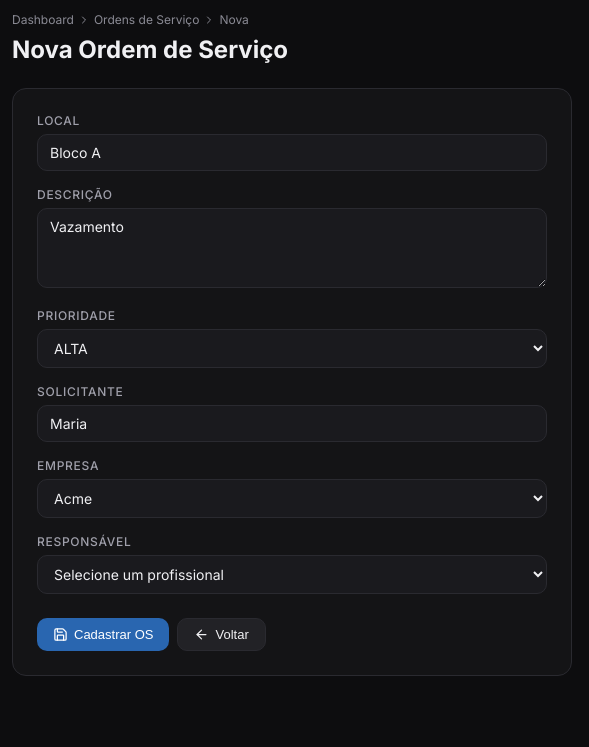
Test: NovaOrdemServico › exibe a mensagem de erro especifica no banner quando a criacao falha
Select "Carlos" in the dropdown below "Responsável". click: x=292, y=574
box: x1=37 y1=555 x2=547 y2=594
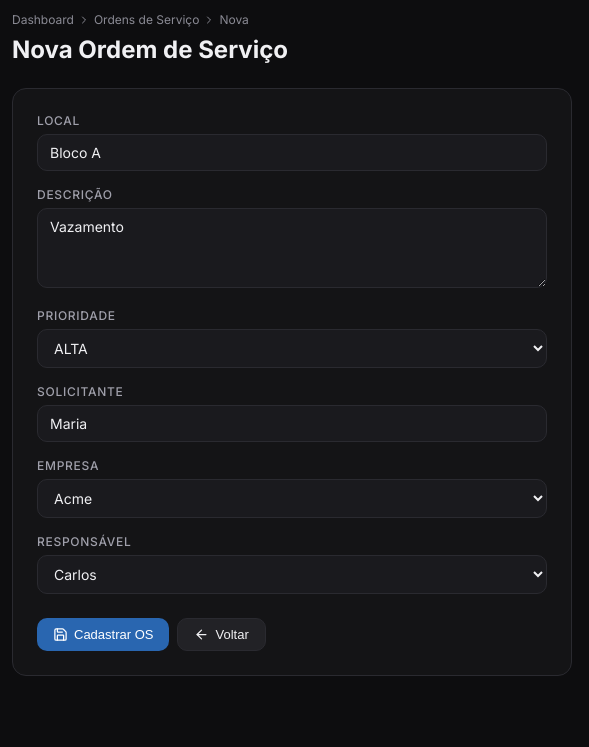
Click the button "Cadastrar OS". click: x=103, y=634
box: x1=37 y1=618 x2=170 y2=651
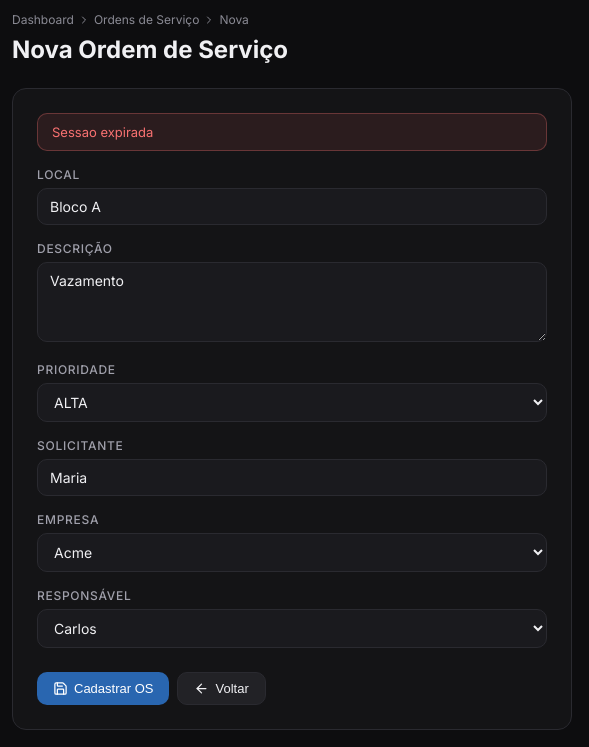
Expected: the message reads "Sessao expirada", x1=52 y1=124 x2=153 y2=140
